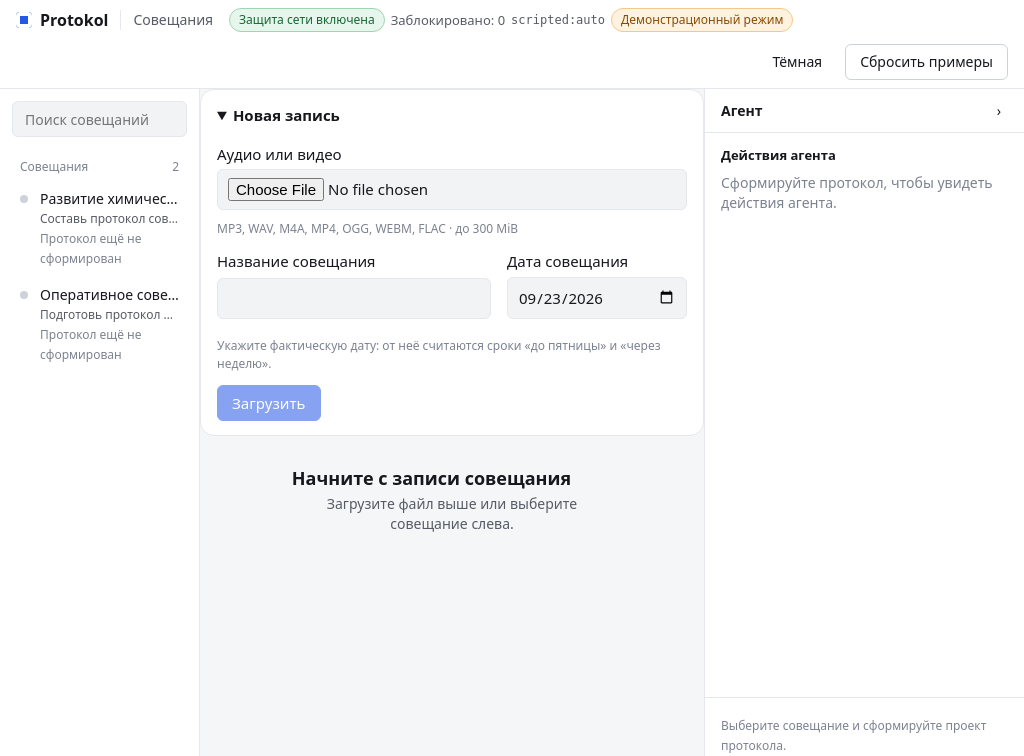
it: Dashboard › should retain the meeting title and history after editing analysis parameters
Click the text "Развитие химической промышленности и ТБ": (110, 199) [40, 189, 179, 209]
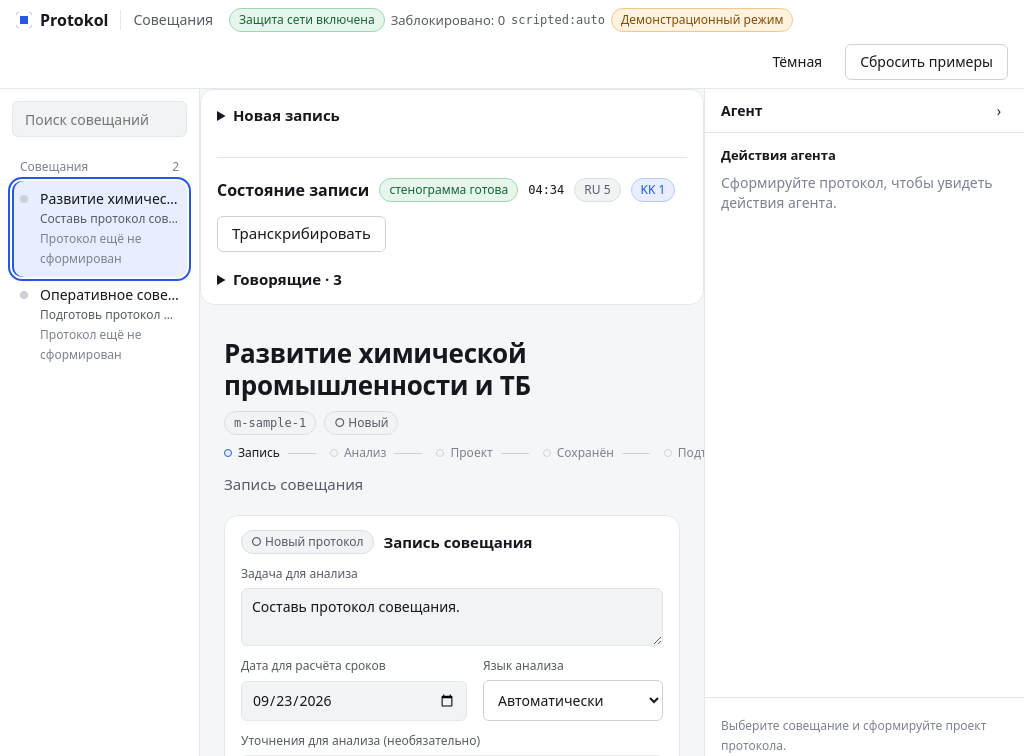
In the date field labelled "Дата для расчёта сроков": (354, 701) [241, 680, 467, 721], type "2026-09-25"
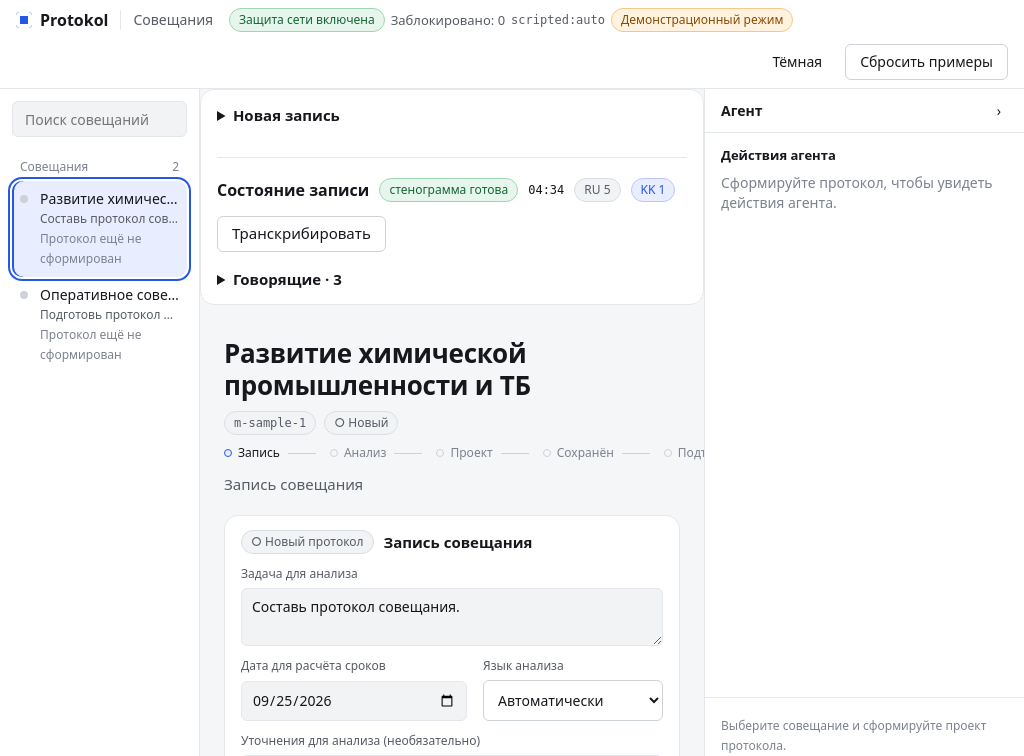
Replace the text in the text box labelled "Задача для анализа" with "Проверь сроки и решения": (452, 617) [241, 588, 663, 646]
(page scrolled)
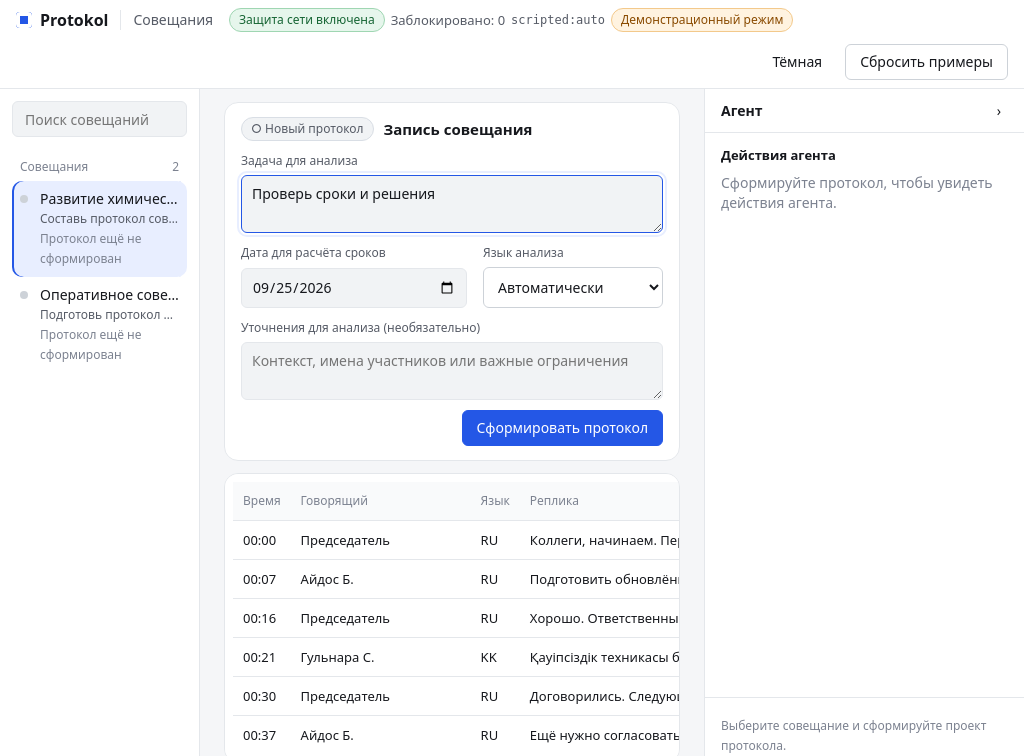
Click the button "Сформировать протокол": (562, 428) [462, 410, 663, 446]
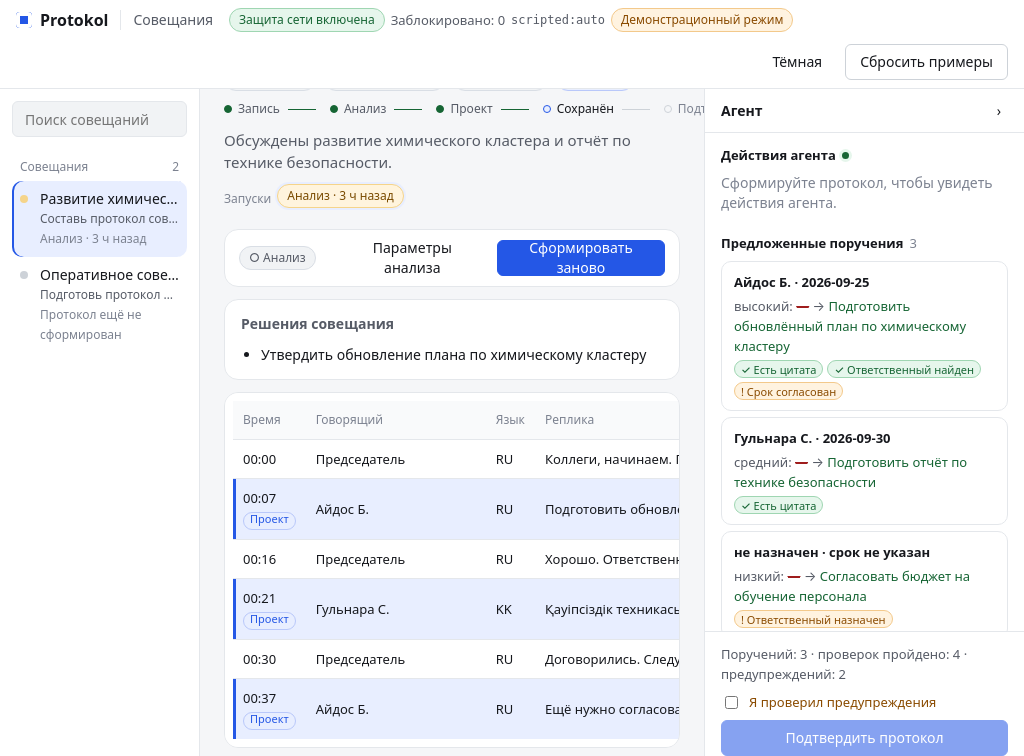
expect the element named "История анализа" is shown: met, box [224, 184, 404, 208]
